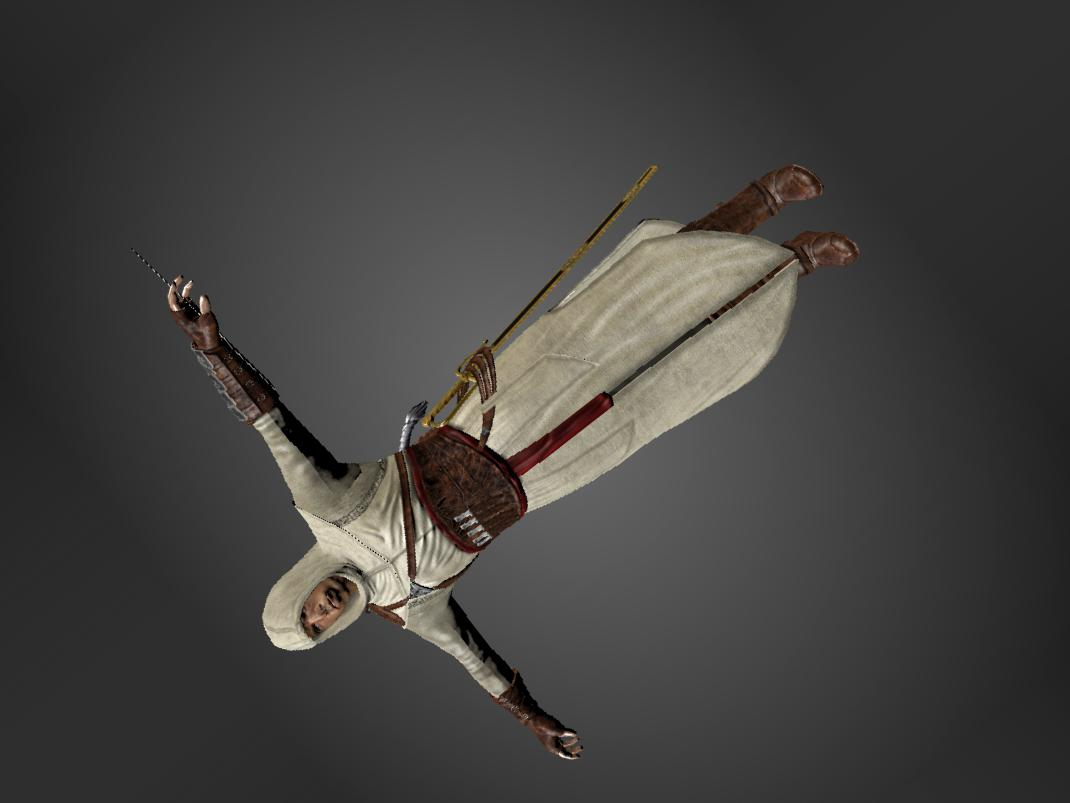clip: (479, 390, 503, 421)
